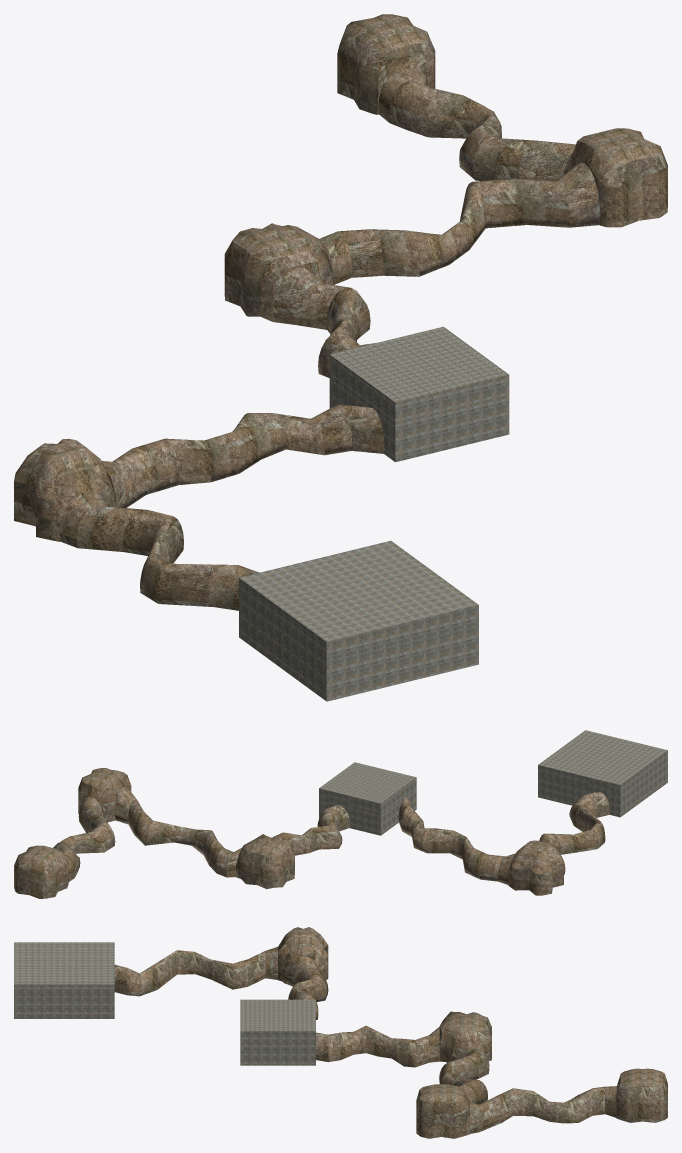
The model's file is map8.fbx.
3 renders of one model, top to bottom at view 1: azimuth 30°, elevation 25°; view 2: azimuth 150°, elevation 25°; view 3: azimuth 270°, elevation 25°, orthographic. The views are drawn at different scales.
Visible parts, largest first — view 1: Tonnel1, Tonnel2, Roof, Wall2, Wall1, Top; view 2: Tonnel2, Tonnel1, Roof, Wall2, Wall1, Top; view 3: Tonnel1, Roof, Wall1, Tonnel2, Top.
Part boxes in pixels (x1,y1,x2,y2): Tonnel1: (14, 26, 667, 610); Tonnel2: (14, 42, 667, 507); Roof: (239, 326, 508, 641); Wall2: (326, 375, 509, 701); Wall1: (239, 355, 395, 701); Top: (26, 14, 660, 475); Tonnel2: (15, 786, 551, 898); Tonnel1: (14, 775, 609, 898); Roof: (319, 730, 667, 803); Wall2: (319, 765, 620, 835); Wall1: (381, 750, 667, 835); Top: (18, 768, 557, 864); Tonnel1: (114, 927, 664, 1138); Roof: (14, 942, 315, 1031); Wall1: (14, 984, 315, 1065); Tonnel2: (285, 935, 667, 1136); Top: (285, 927, 664, 1102).
Size of the model in its own units: 3.96 by 0.645 by 5.2.
3 materials, 3 textured.
